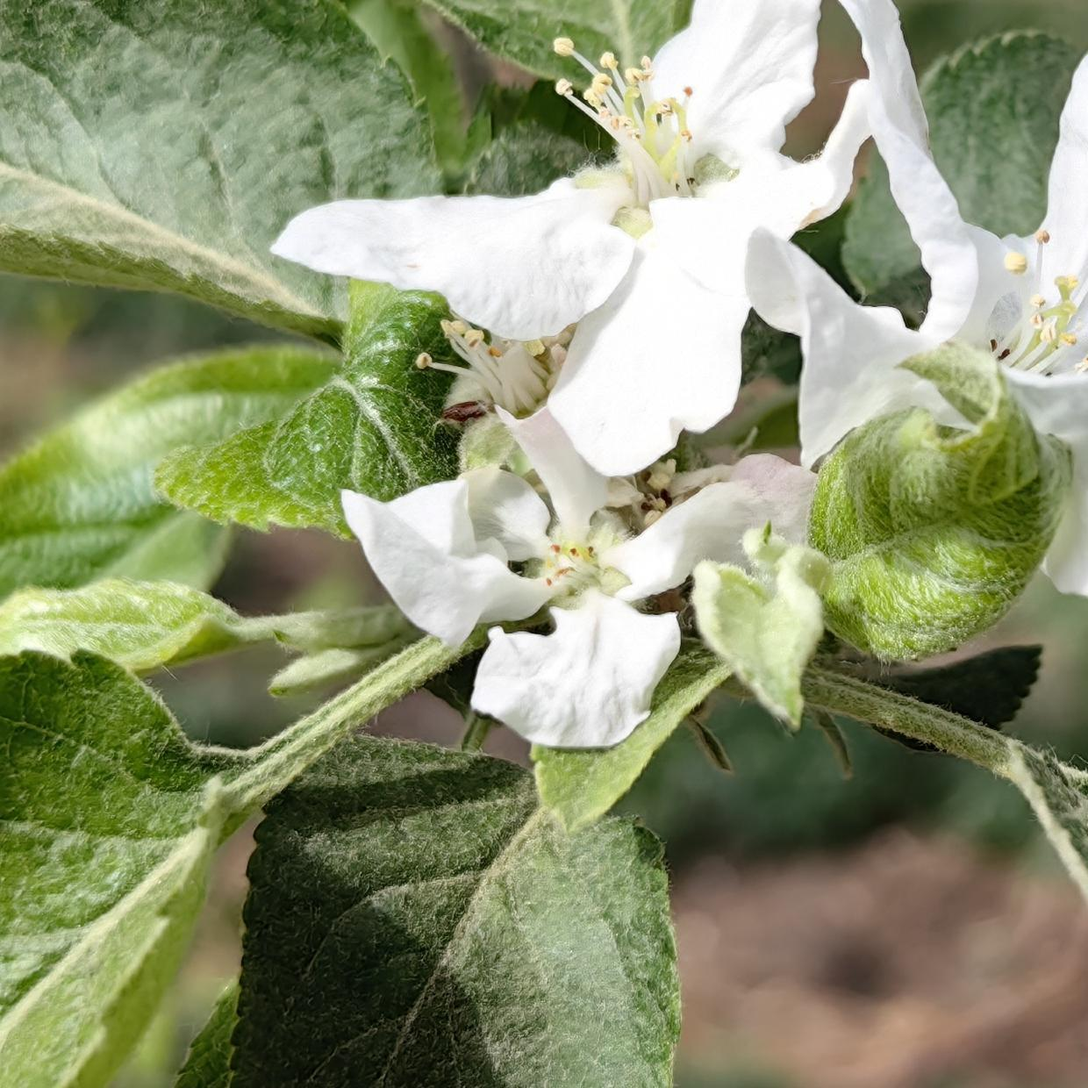apple_flower: (271, 0, 870, 476), (748, 0, 1088, 592), (340, 407, 815, 748)
